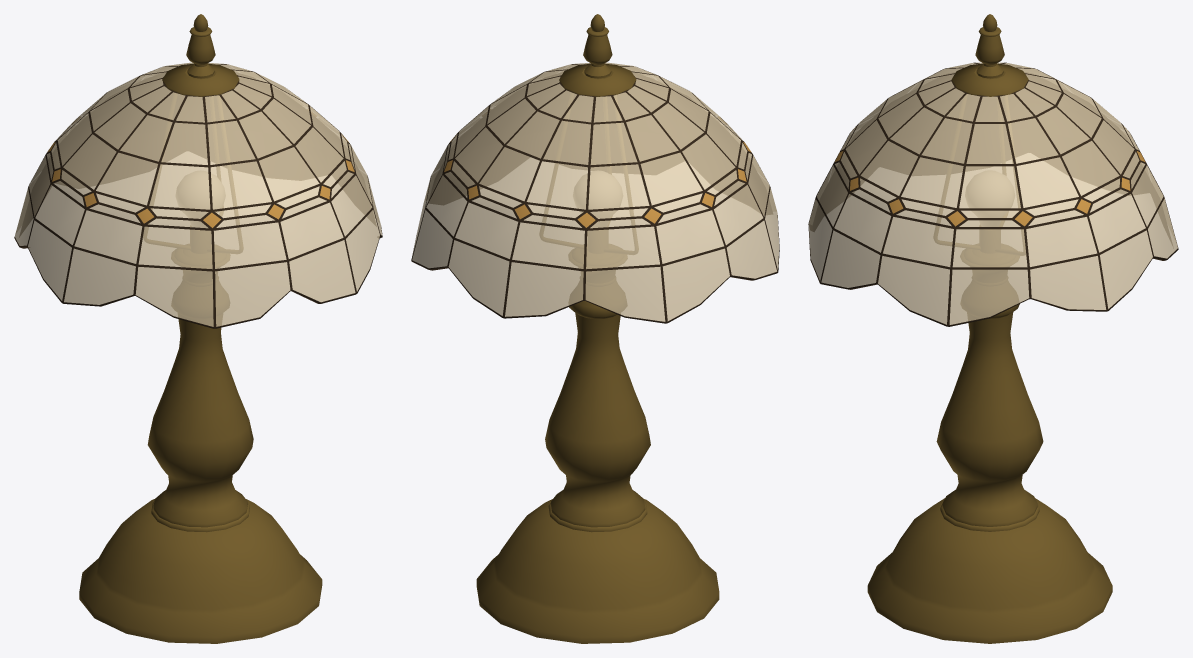
Rendered from lamp.fbx.
The picture shows the model from 3 angles, left to right: view 1: azimuth 30°, elevation 25°; view 2: azimuth 150°, elevation 25°; view 3: azimuth 270°, elevation 25°; orthographic projection.
Parts seen in each view (by area): view 1: lamp; view 2: lamp; view 3: lamp.
Boxes of the visible parts, box(x1,y1,x2,y2) form: lamp: box(14, 14, 382, 643); lamp: box(411, 14, 779, 643); lamp: box(808, 14, 1178, 643).
Bounding box in the file's own units: 149 × 259 × 150.
